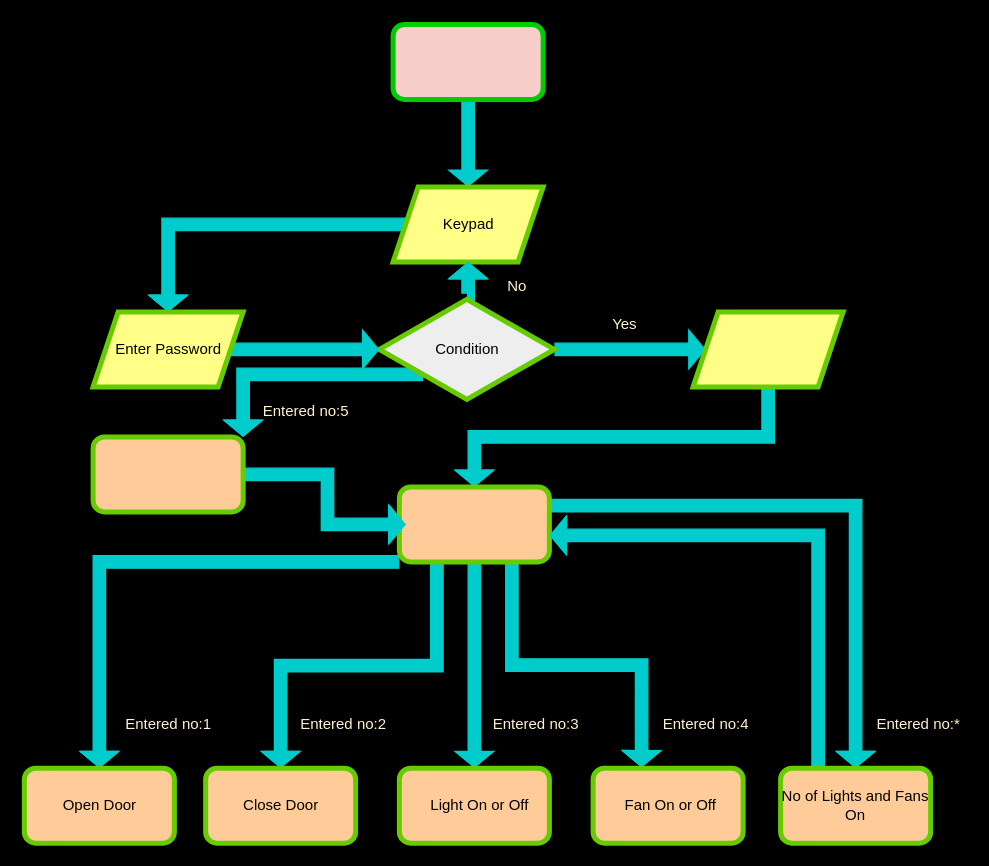
Some shapes in this 989 by 866 pixel diagram are drawn without their labels. Here are the shapes that lost their labels. From the top down, the box of each, then its label:
(390, 21, 545, 101): Start
(690, 309, 845, 389): Entered Keypad Number
(90, 434, 245, 514): Temperature Detection
(396, 484, 551, 564): Display on LCD
